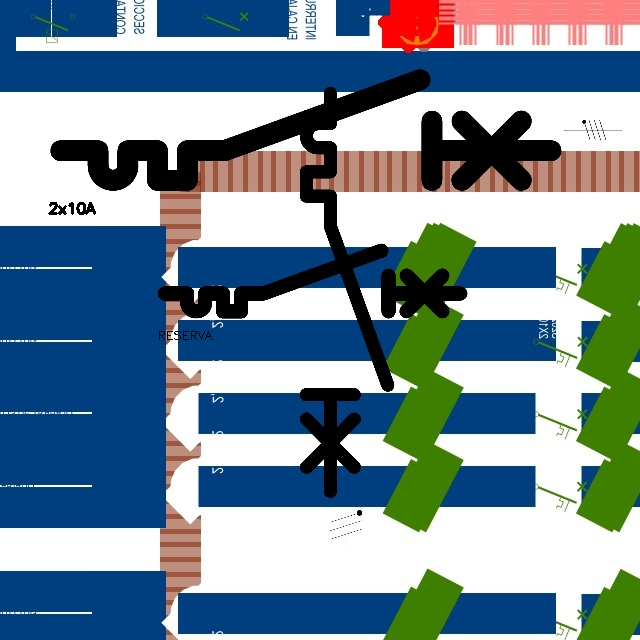interruptor_termomagnetico: (48, 67, 563, 193), (296, 83, 398, 501), (157, 243, 468, 319)
